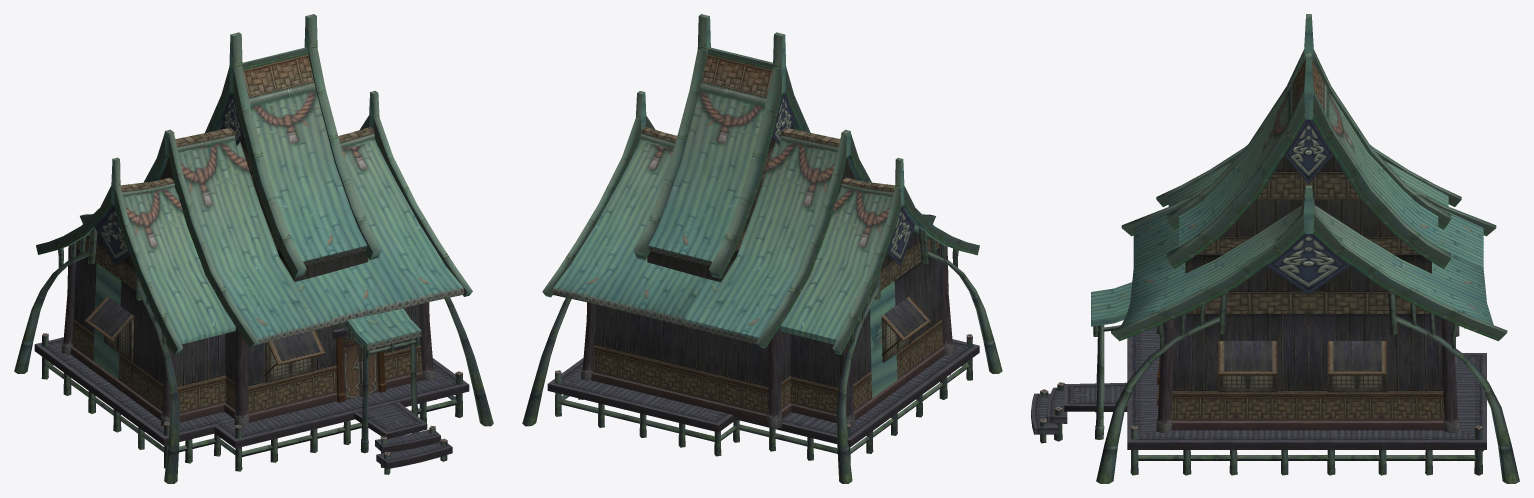
The model's file is yw_tangmen_zhudian02_53_31_9804out.fbx.
3 views of the same model, side by side, from view 1: azimuth 30°, elevation 25°; view 2: azimuth 150°, elevation 25°; view 3: azimuth 270°, elevation 25° (orthographic). The views are drawn at different scales.
Parts seen in each view (by area): view 1: yw_tangmen_zhudian02; view 2: yw_tangmen_zhudian02; view 3: yw_tangmen_zhudian02.
Part boxes in pixels (x1,y1,x2,y2): yw_tangmen_zhudian02: [14, 14, 493, 483]; yw_tangmen_zhudian02: [522, 14, 1002, 483]; yw_tangmen_zhudian02: [1031, 14, 1519, 483].
Bounding box in the file's own units: 7.36 × 8.21 × 9.48.
